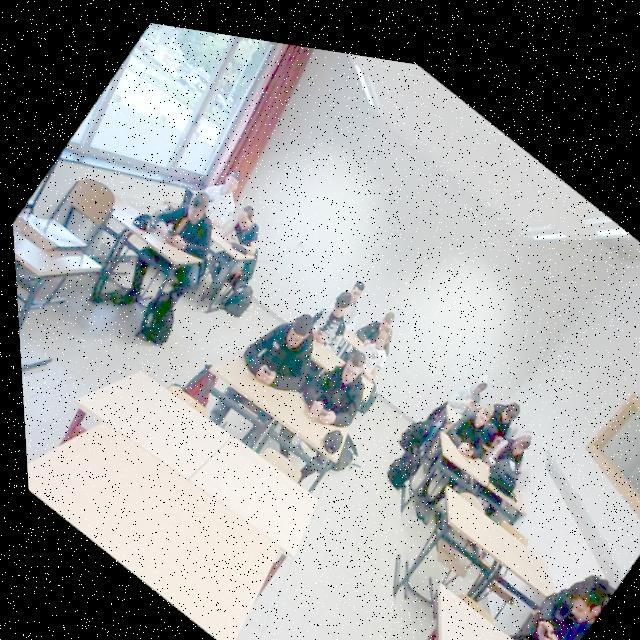phone_use: (300, 312, 392, 424), (133, 188, 211, 274), (515, 574, 610, 638), (465, 402, 529, 493), (243, 313, 314, 388), (443, 382, 512, 458), (311, 280, 363, 354), (464, 402, 517, 445), (211, 205, 257, 252), (447, 380, 485, 405)
